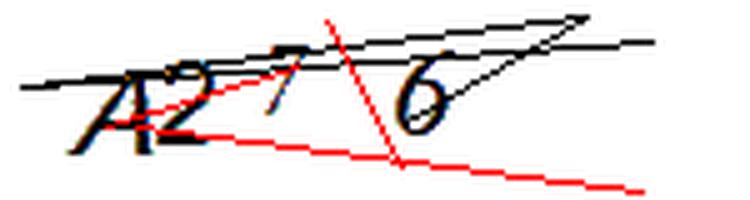2: (153, 55, 216, 154)
6: (387, 44, 463, 139)
7: (252, 37, 318, 120)
A: (64, 64, 158, 162)
